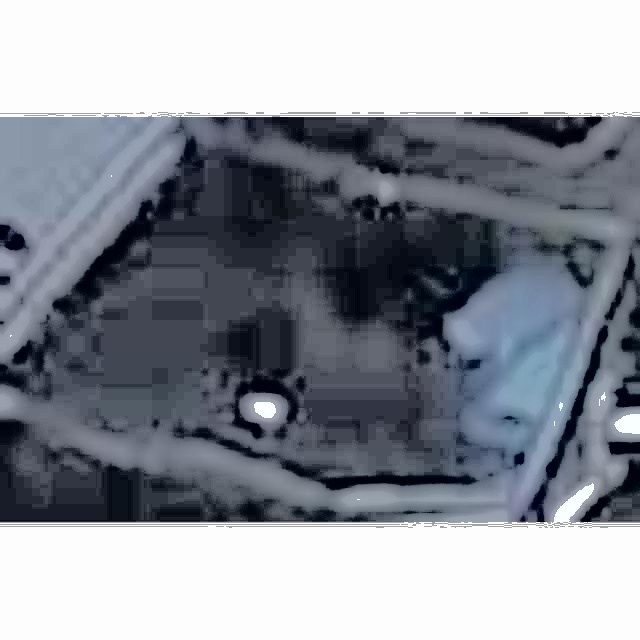pakai: (431, 263, 602, 447)
